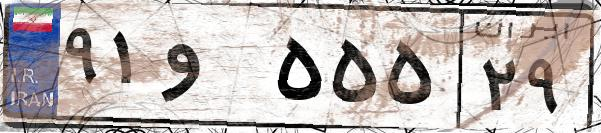1: (110, 28, 158, 98)
2: (475, 38, 525, 113)
5: (270, 28, 330, 110), (385, 28, 445, 110), (330, 28, 385, 110)
9: (57, 26, 110, 100), (525, 38, 570, 115)
و: (158, 20, 270, 120)
